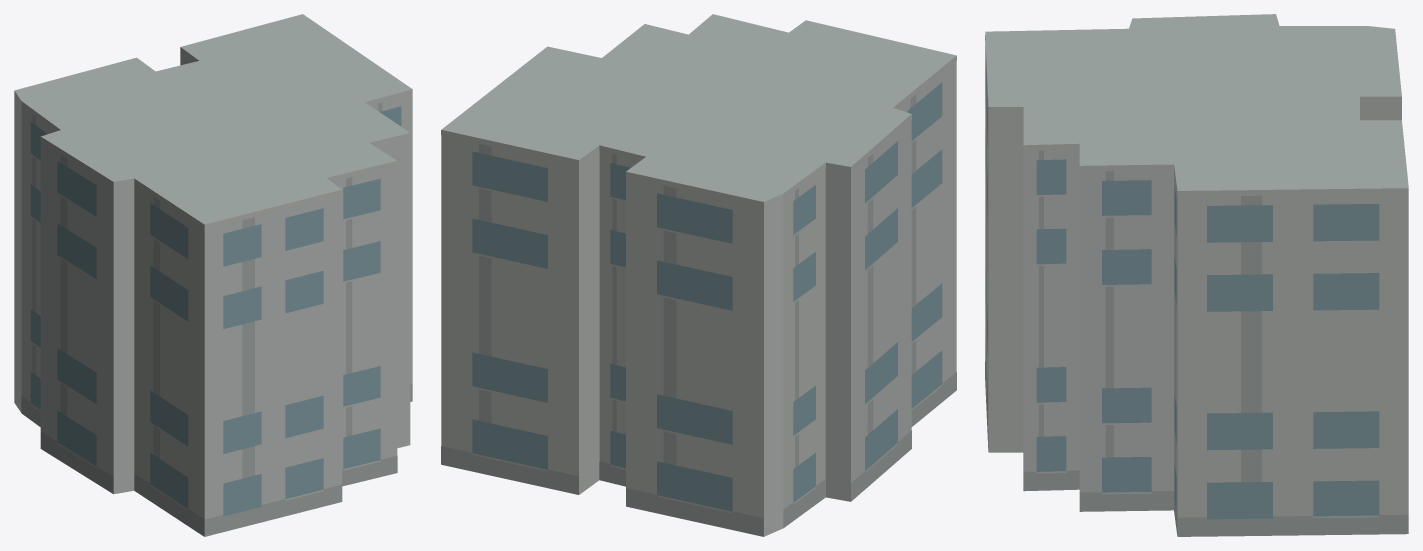
The model's file is survey-upis-32568147.glb.
The picture shows the model from 3 angles, left to right: view 1: azimuth 30°, elevation 25°; view 2: azimuth 150°, elevation 25°; view 3: azimuth 270°, elevation 25°; orthographic projection. The views are drawn at different scales.
Visible parts, largest first — view 1: survey-upis-32568147.tmp; view 2: survey-upis-32568147.tmp; view 3: survey-upis-32568147.tmp.
Boxes of the visible parts, x1,y1,x2,y2 form: survey-upis-32568147.tmp: (14,14,412,536); survey-upis-32568147.tmp: (441,14,956,536); survey-upis-32568147.tmp: (985,14,1408,536).
Size of the model in its own units: 16.03 by 14.6 by 16.22.
